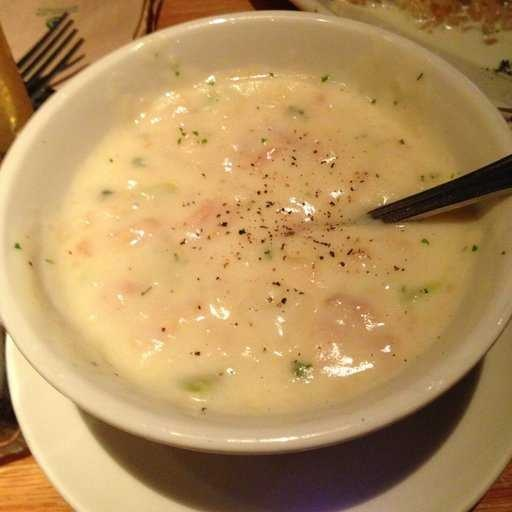soup: (28, 23, 490, 421)
